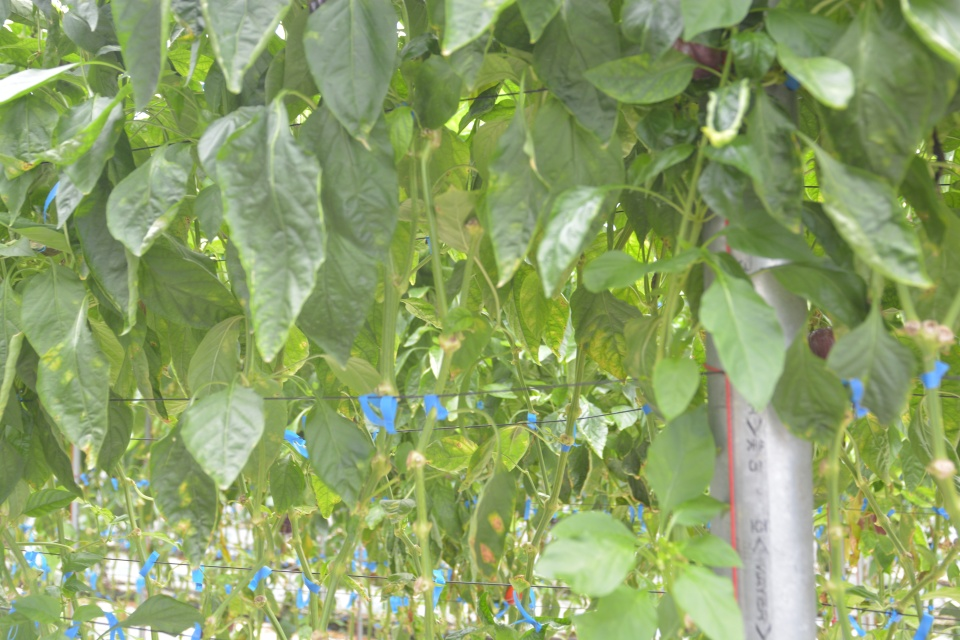fruit: (676, 36, 726, 80), (808, 325, 835, 359)
